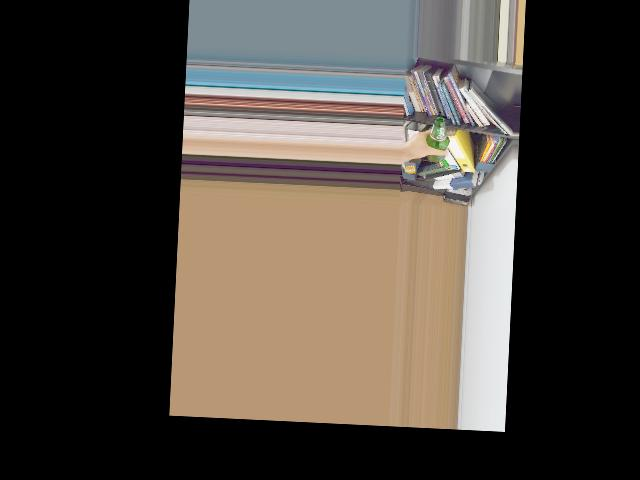beer: (425, 117, 449, 163)
